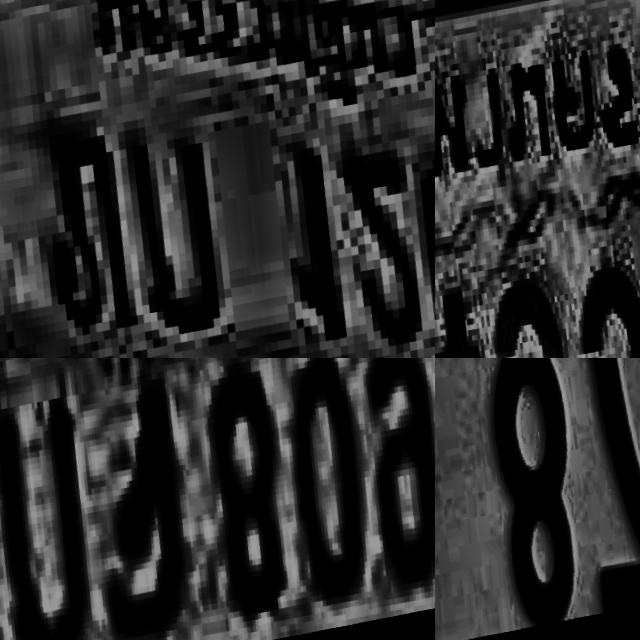license-plate: (0, 0, 435, 358), (0, 358, 435, 640), (435, 0, 640, 358), (435, 358, 640, 640)
